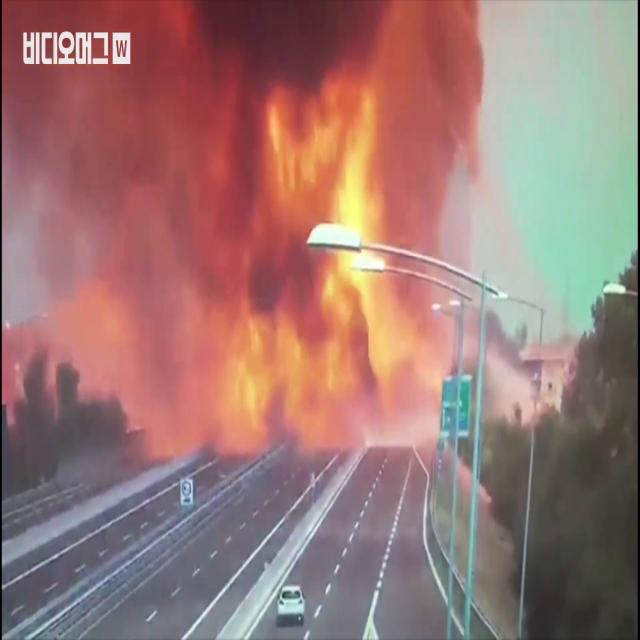explosion: (0, 0, 538, 544)
